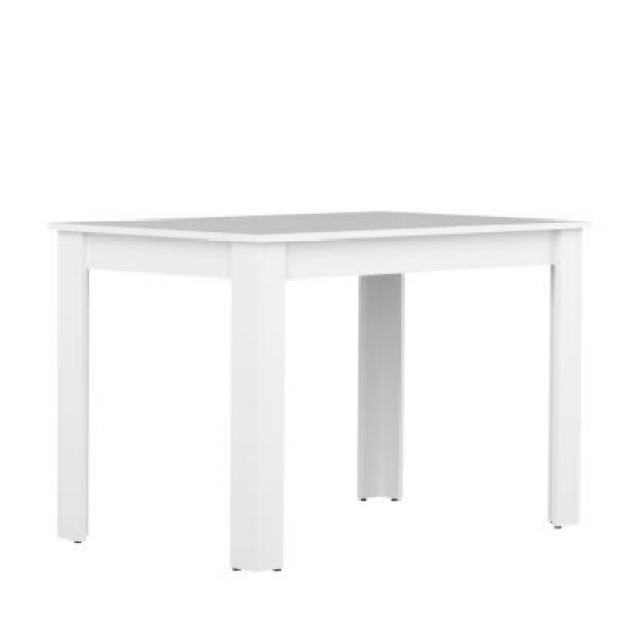table: (43, 211, 594, 563)
